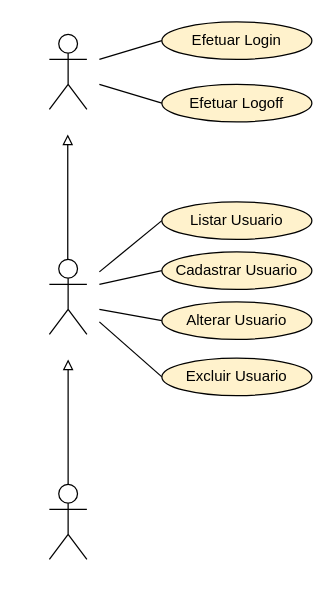
This 334x608 diagram has some shape labels left out. The shapes that lost their labels are listed below. From the top down, each one's centre as x and y in pixels, then its label:
the point at 67,71: Funcionario
the point at 67,296: Bibliotecario
the point at 67,521: Administrador
